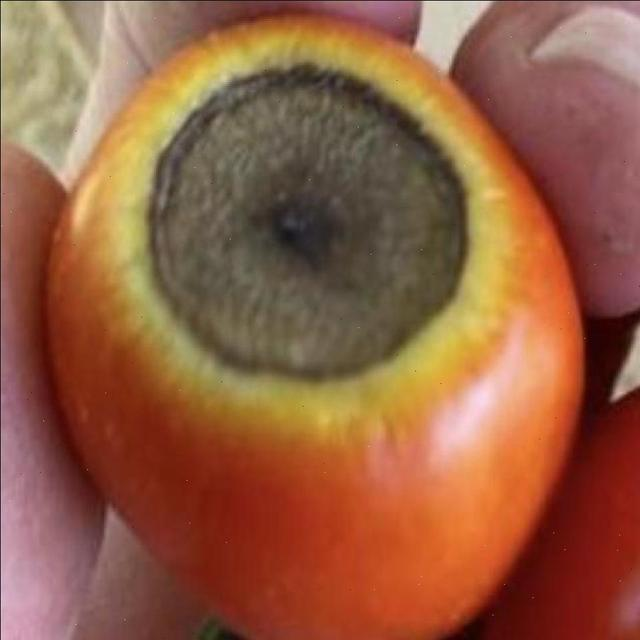Blossom End Rot Fruit: (85, 40, 317, 274)
